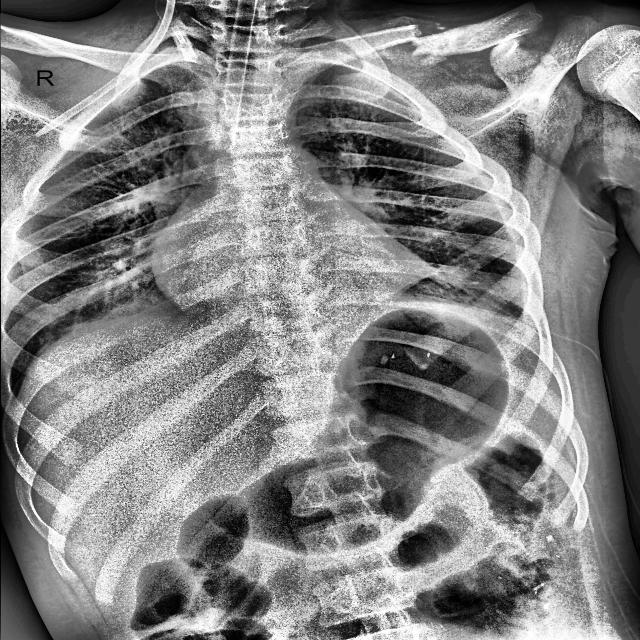Fracture: (367, 13, 472, 70)
